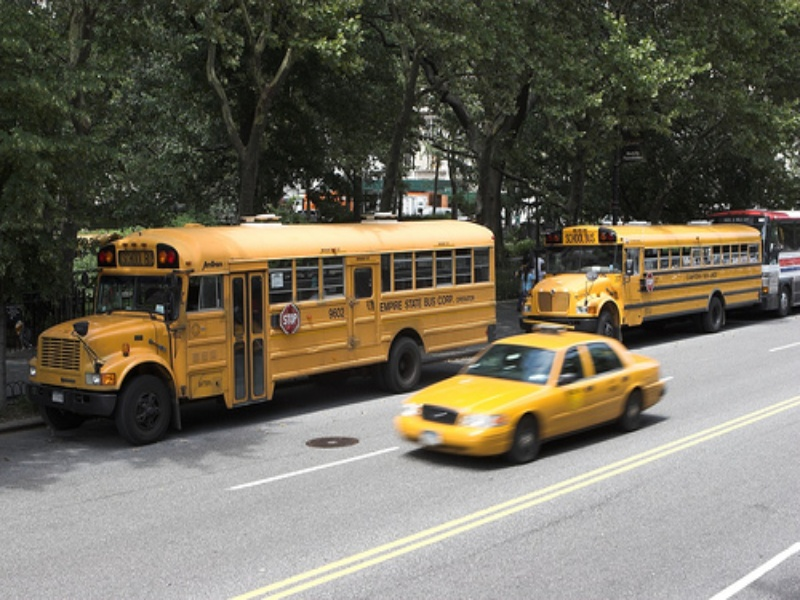car: (29, 220, 496, 445), (391, 323, 666, 463), (522, 222, 764, 338), (707, 209, 800, 313)
